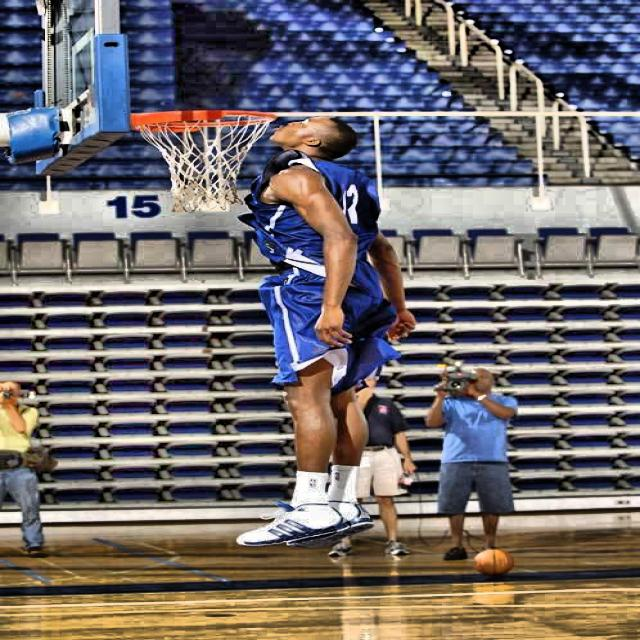rim: (135, 107, 276, 215)
